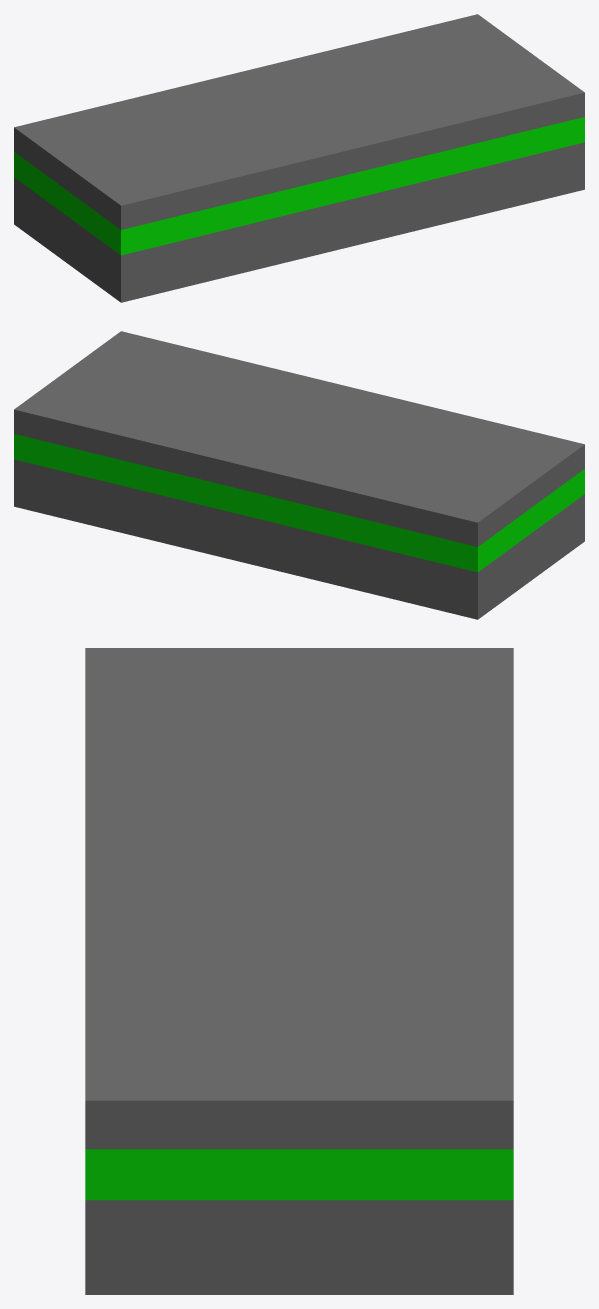
The model's file is Sm_RectanglePlatform1.fbx.
3 views of the same model, one above another, from view 1: azimuth 30°, elevation 25°; view 2: azimuth 150°, elevation 25°; view 3: azimuth 270°, elevation 25° (orthographic). The views are drawn at different scales.
Parts seen in each view (by area): view 1: pCube1; view 2: pCube1; view 3: pCube1.
Part boxes in pixels (<box>): pCube1: <box>14,14,584,302</box>; pCube1: <box>14,331,584,619</box>; pCube1: <box>85,648,513,1294</box>.
Size of the model in its own units: 250 by 50 by 100.
